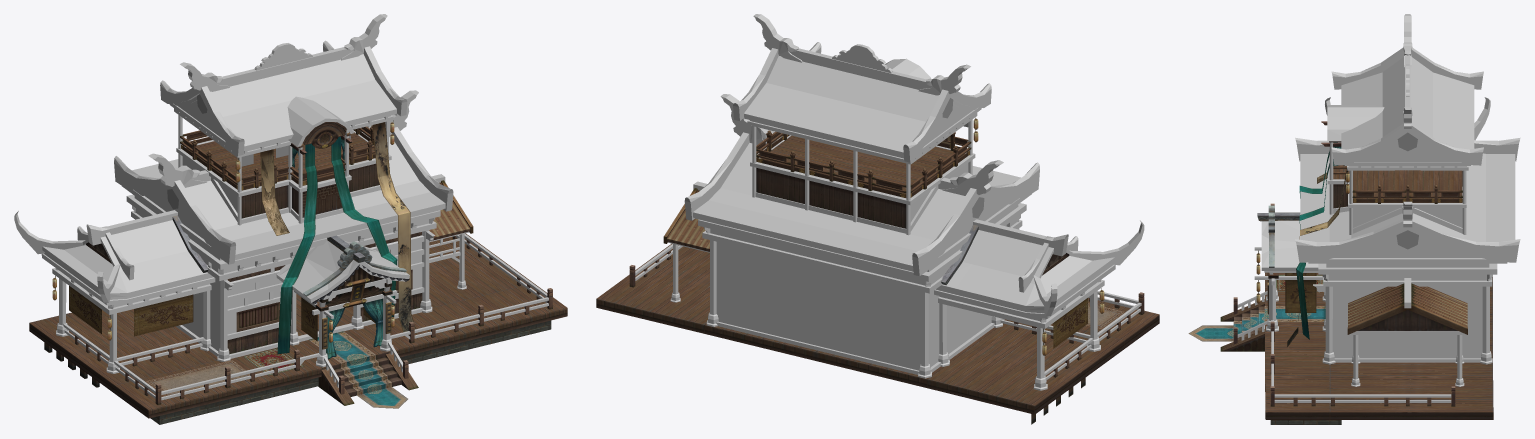
File: build_02.FBX
The picture shows the model from 3 angles, left to right: view 1: azimuth 30°, elevation 25°; view 2: azimuth 150°, elevation 25°; view 3: azimuth 270°, elevation 25°; orthographic projection. The views are drawn at different scales.
Parts seen in each view (by area): view 1: segment_5, segment_4, segment_6, segment_7; view 2: segment_5, segment_4, segment_6; view 3: segment_5, segment_4, segment_6, segment_7.
Part boxes in pixels (left/top/right/bottom): segment_5: left=14, top=14, right=548, bottom=400; segment_4: left=29, top=122, right=567, bottom=424; segment_6: left=55, top=120, right=416, bottom=408; segment_7: left=167, top=94, right=385, bottom=209; segment_5: left=635, top=14, right=1144, bottom=390; segment_4: left=596, top=118, right=1159, bottom=424; segment_6: left=756, top=118, right=1125, bottom=348; segment_5: left=1237, top=14, right=1520, bottom=402; segment_4: left=1220, top=121, right=1493, bottom=424; segment_6: left=1188, top=142, right=1459, bottom=346; segment_7: left=1396, top=132, right=1418, bottom=249.
Size of the model in its own units: 589 by 373 by 406.
